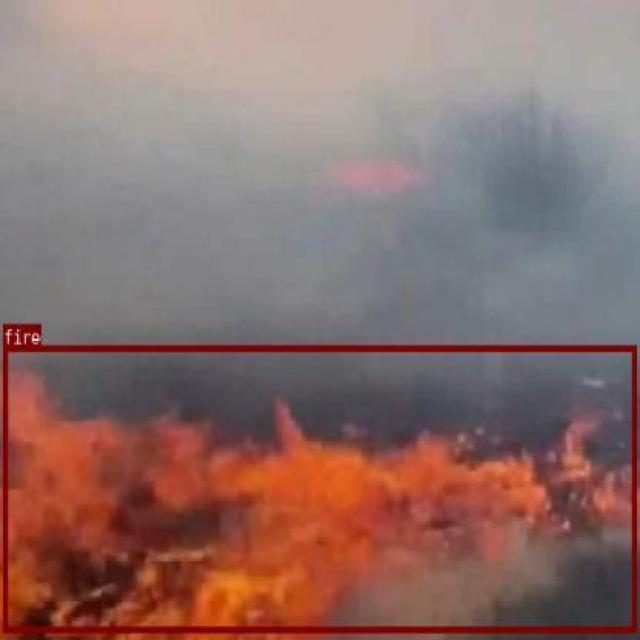Fire: (2, 344, 636, 632)
